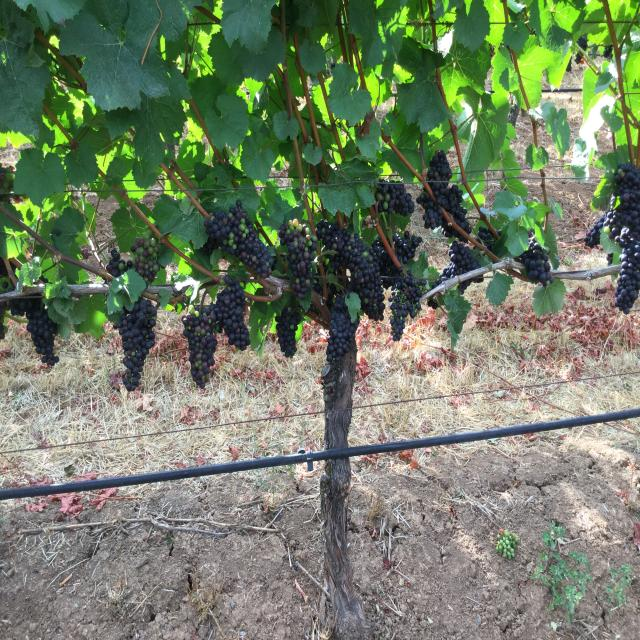grapes: (316, 220, 385, 320), (205, 200, 274, 278), (418, 150, 470, 233), (116, 300, 156, 392), (9, 298, 59, 365), (278, 220, 318, 298), (182, 308, 218, 388), (215, 275, 250, 350), (432, 240, 481, 288), (326, 295, 359, 363), (390, 272, 422, 342), (521, 235, 552, 287), (375, 178, 414, 217), (275, 308, 301, 358), (106, 248, 129, 278), (459, 275, 484, 293)
